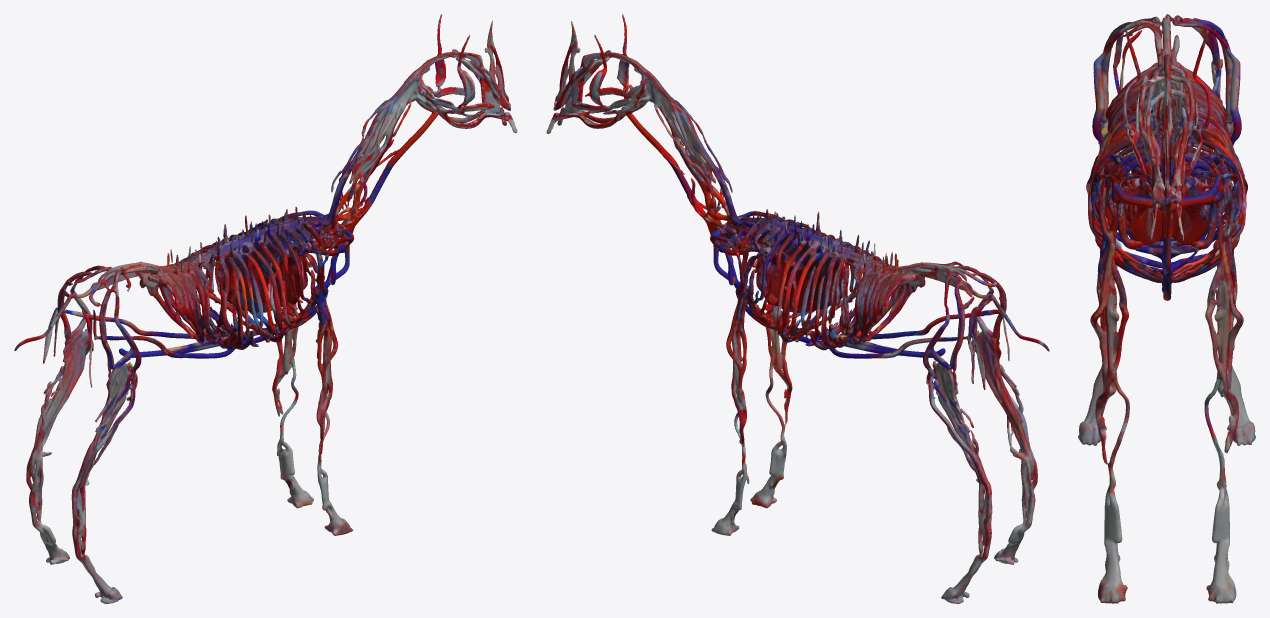
The model's file is sistema_cardiovascular.glb.
The picture shows the model from 3 angles, left to right: view 1: azimuth 30°, elevation 25°; view 2: azimuth 150°, elevation 25°; view 3: azimuth 270°, elevation 25°; orthographic projection. The views are drawn at different scales.
Visible parts, largest first — view 1: tripo_node_8eb1789e-8e0e-4c74-a804-770f31bbf59d; view 2: tripo_node_8eb1789e-8e0e-4c74-a804-770f31bbf59d; view 3: tripo_node_8eb1789e-8e0e-4c74-a804-770f31bbf59d.
Boxes of the visible parts, x1,y1,x2,y2 form: tripo_node_8eb1789e-8e0e-4c74-a804-770f31bbf59d: (14, 14, 517, 603); tripo_node_8eb1789e-8e0e-4c74-a804-770f31bbf59d: (546, 14, 1049, 603); tripo_node_8eb1789e-8e0e-4c74-a804-770f31bbf59d: (1078, 14, 1255, 603).
Bounding box in the file's own units: 1 × 0.895 × 0.2152.
1 material, 1 textured.
